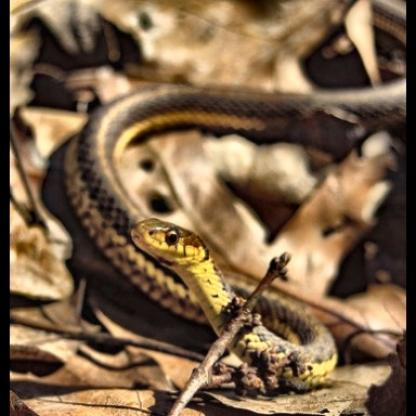Snake: (76, 202, 340, 396)
